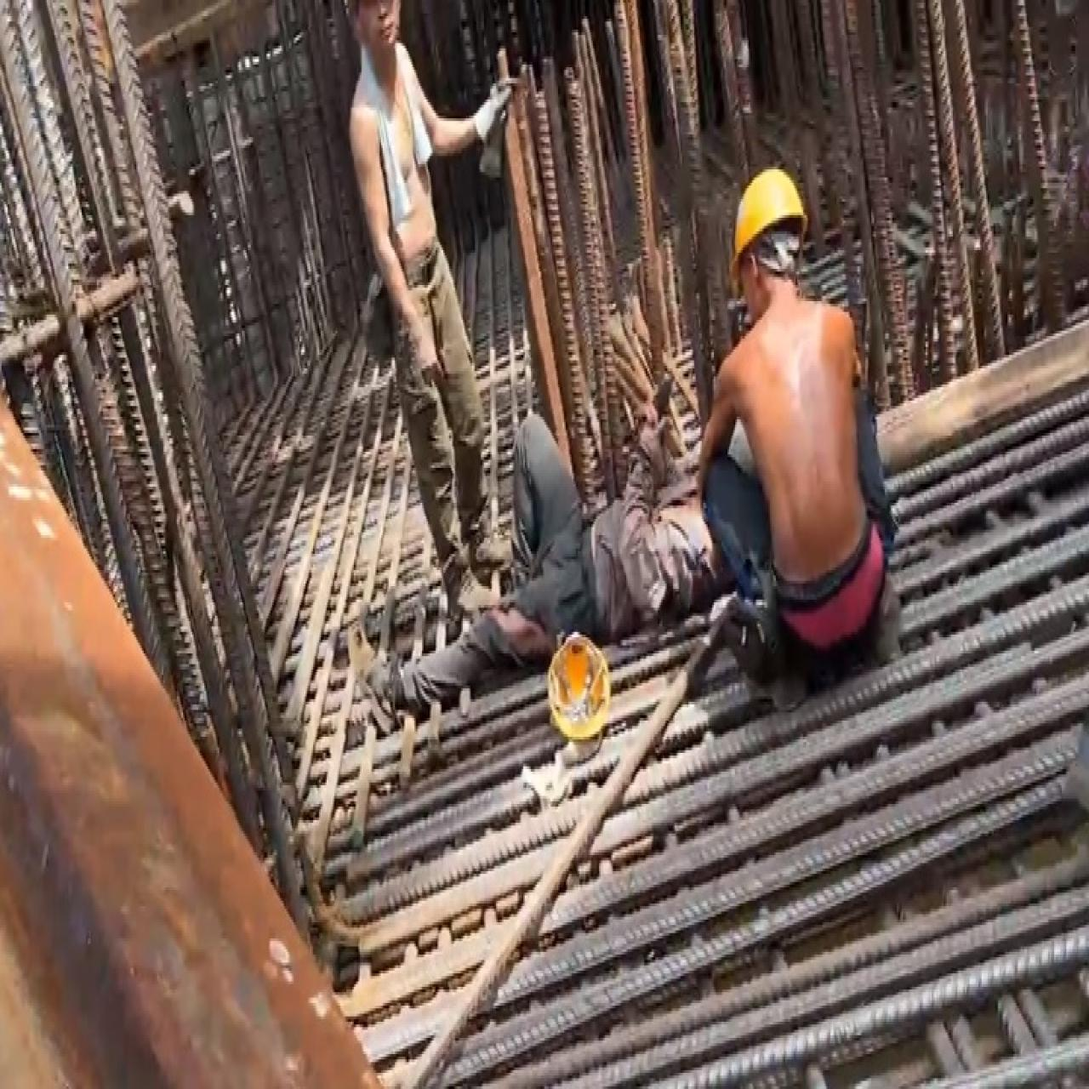NO_Safety_Vest: (716, 281, 875, 596), (349, 44, 482, 303), (586, 428, 710, 644)
Person: (345, 388, 725, 733), (330, 0, 537, 624), (695, 155, 900, 683)
